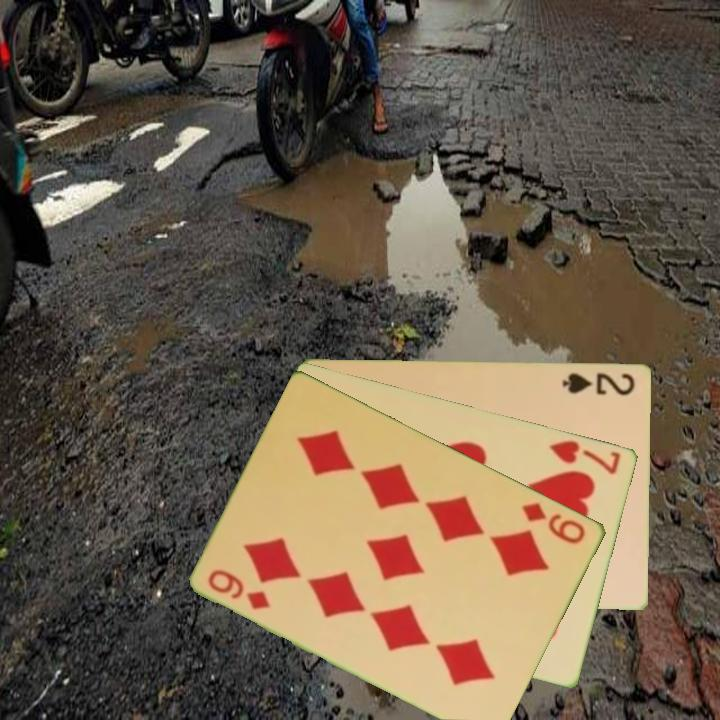2s: (559, 369, 638, 398)
7h: (547, 436, 624, 478)
9d: (519, 498, 589, 547), (205, 565, 274, 613)
